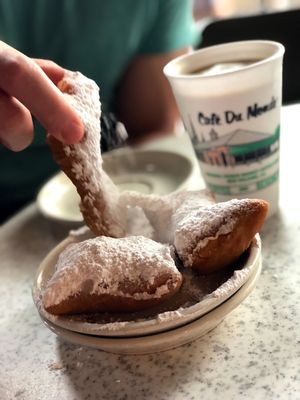pizza: (162, 39, 285, 206)
